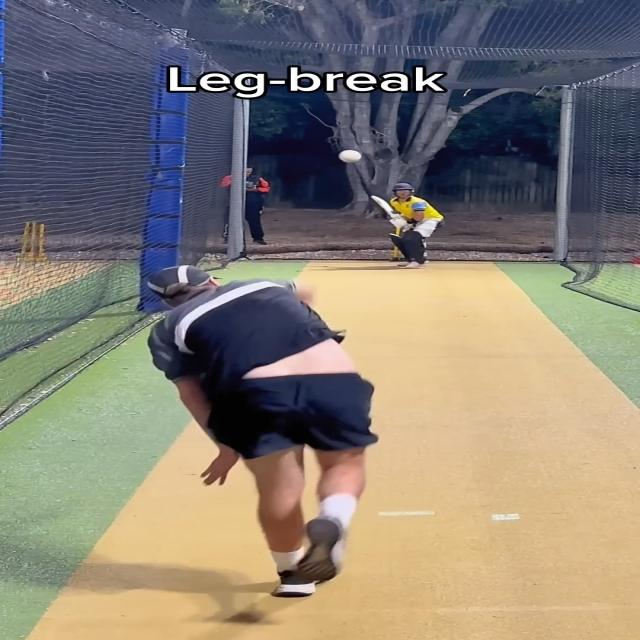Cricket ball: (338, 148, 367, 166)
